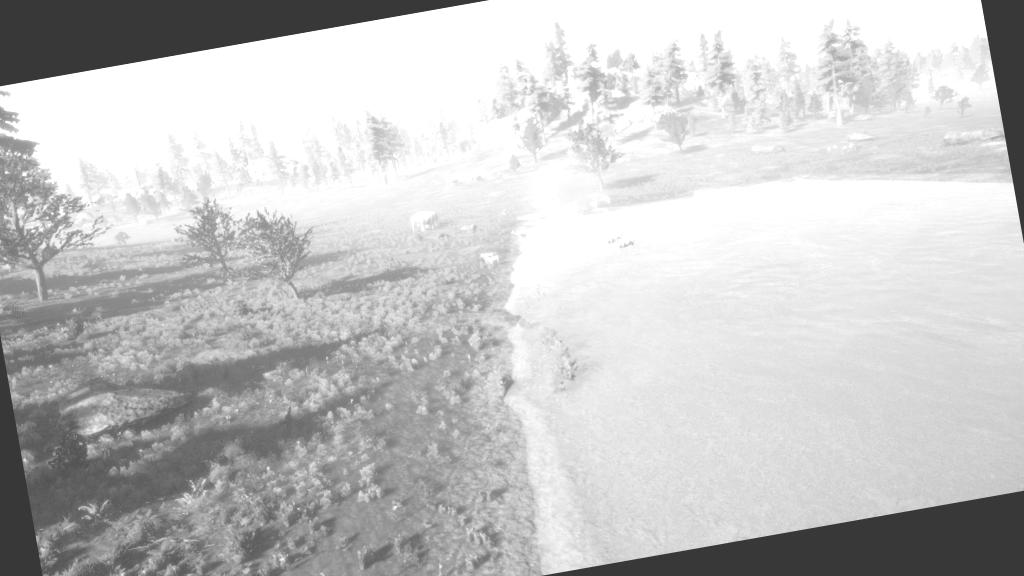Fire: (545, 186, 574, 217)
elephant: (406, 206, 442, 236), (444, 173, 462, 189), (468, 170, 486, 185)
hippopotamus: (458, 221, 481, 237)
human: (586, 212, 596, 228), (500, 207, 510, 218)
lion: (508, 226, 532, 242)
rhinoceros: (609, 234, 637, 253), (598, 230, 625, 248)
smoke: (528, 146, 612, 225)
zebra: (474, 248, 504, 270)
